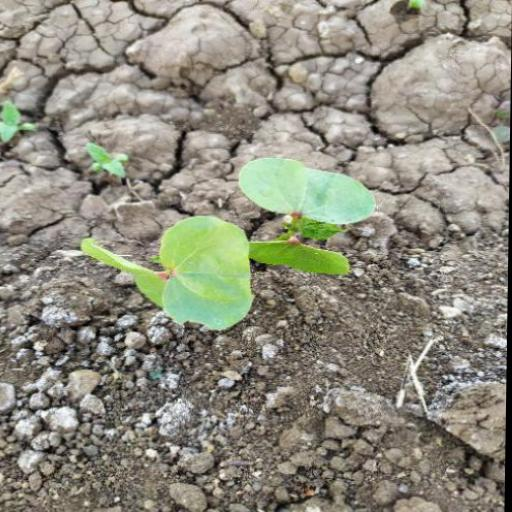weed: (77, 155, 395, 350)
